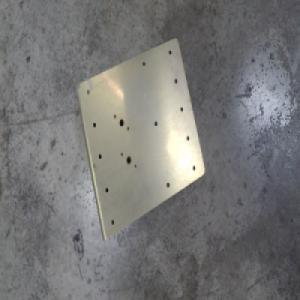MetalSheet: (74, 34, 206, 243)
